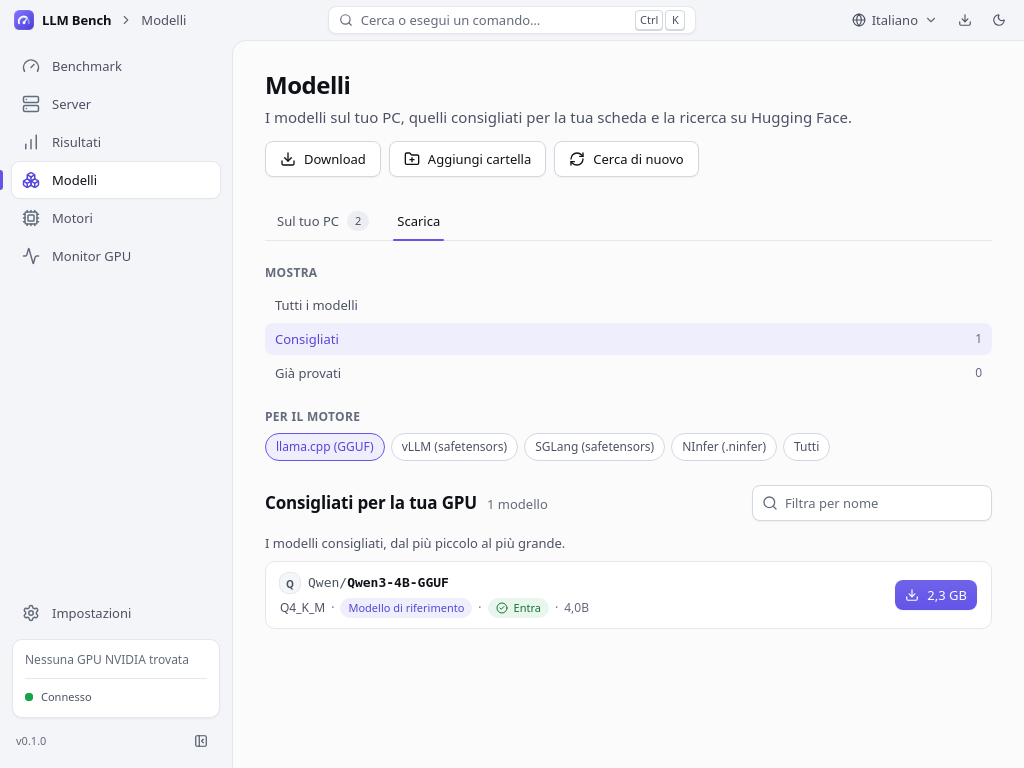
Test: models: download › without a GPU or with a failing list the suggestions still explain themselves
Expected: the text "I modelli consigliati, dal più piccolo al più grande." is shown, x1=265 y1=534 x2=565 y2=552
What coordinates should you click on to do the following:
click the button with aria-label "Scarica Qwen3 4B · Q4_K_M · 2,3 GB"
I would click on:
 (936, 595)
Its box is x1=895 y1=580 x2=977 y2=610.
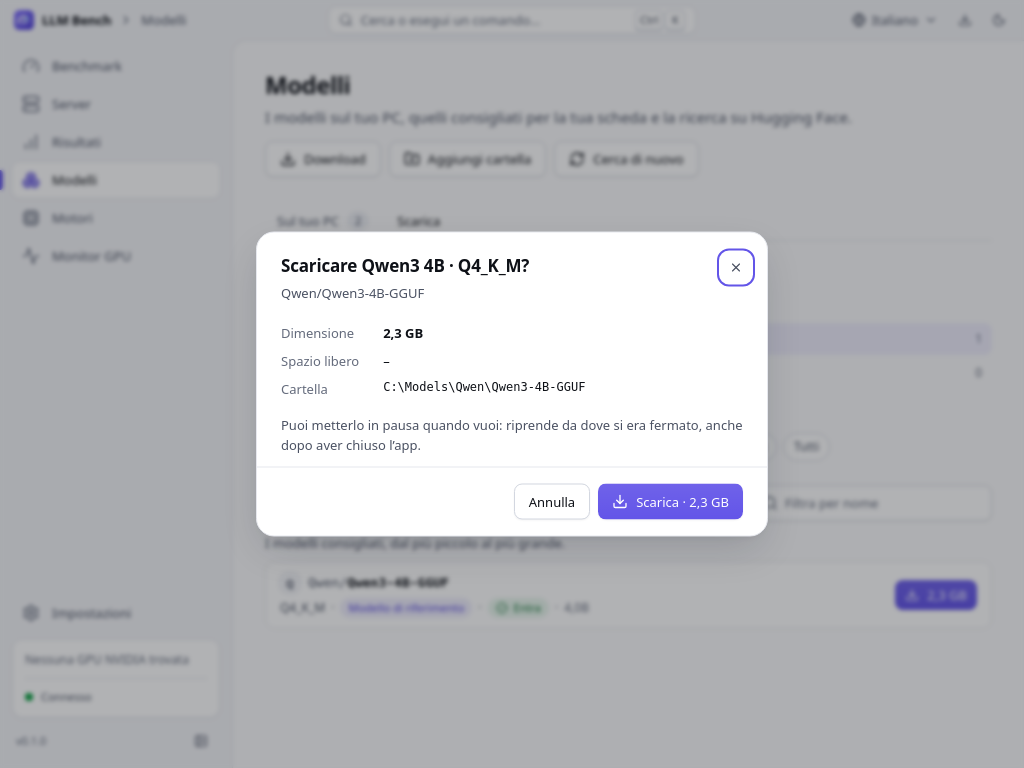
Expected: the text "–" is shown once, x1=383 y1=352 x2=390 y2=370
